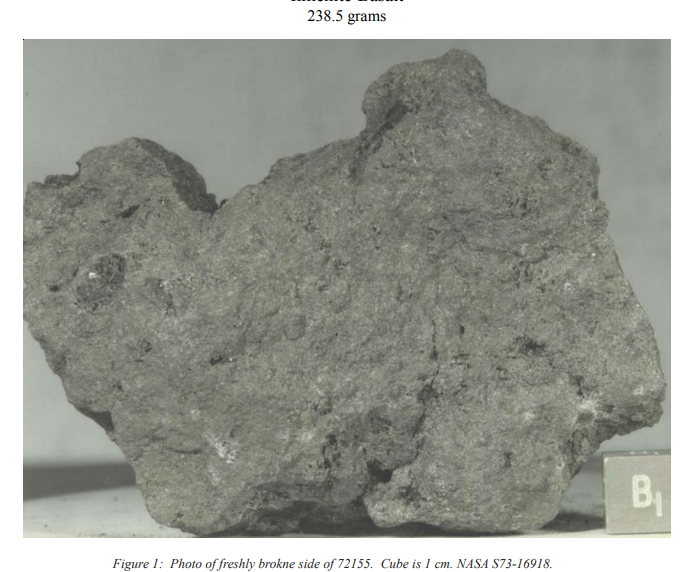Basalt: (59, 130, 569, 522)
